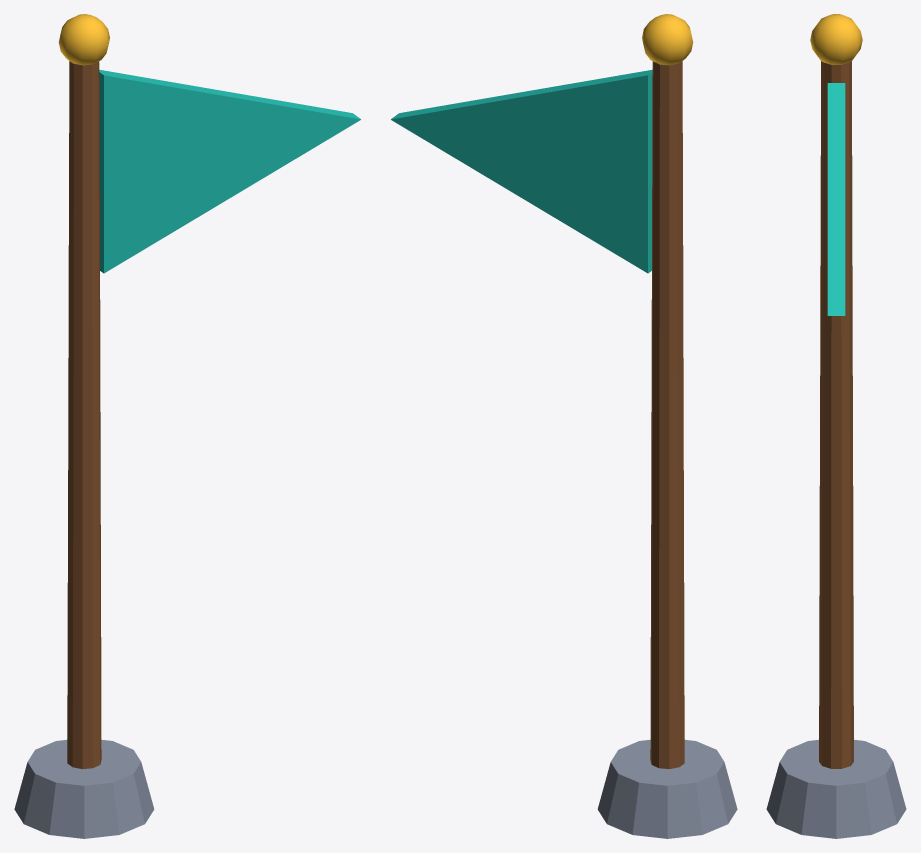
Rendered from flag_checkpoint.glb.
3 renders of one model, left to right at view 1: azimuth 30°, elevation 25°; view 2: azimuth 150°, elevation 25°; view 3: azimuth 270°, elevation 25°, orthographic.
Parts seen in each view (by area): view 1: flag_checkpoint; view 2: flag_checkpoint; view 3: flag_checkpoint.
Part boxes in pixels (<box>): flag_checkpoint: <box>14,14,360,838</box>; flag_checkpoint: <box>391,14,737,838</box>; flag_checkpoint: <box>766,14,906,838</box>.
Size of the model in its own units: 0.88 by 2 by 0.32.
